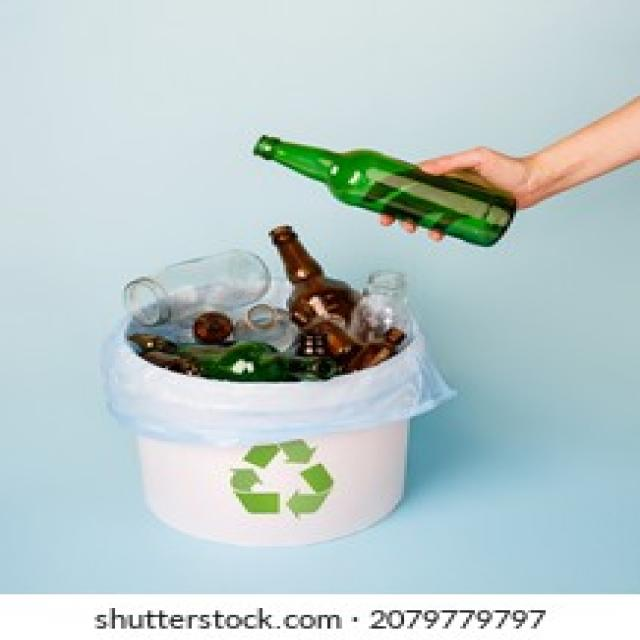glass: (245, 130, 519, 242), (277, 228, 366, 379)
plastic: (106, 265, 266, 313)
